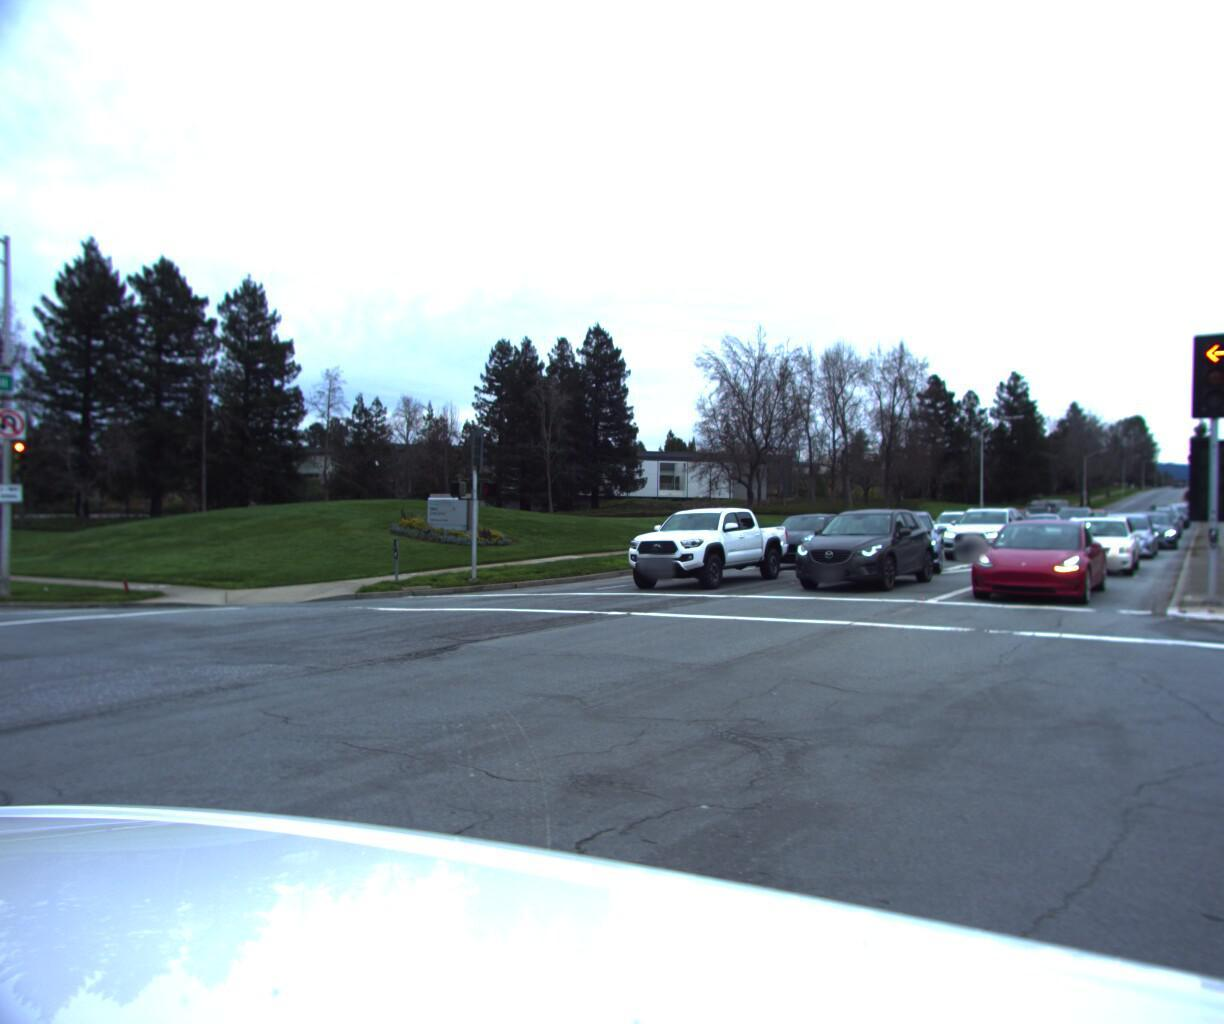car: (612, 501, 790, 595), (958, 516, 1112, 610), (783, 502, 939, 595), (743, 513, 863, 571), (1040, 511, 1143, 576), (936, 503, 1035, 562), (858, 508, 946, 574), (1082, 509, 1163, 558), (922, 508, 987, 549), (1122, 513, 1183, 550), (1008, 511, 1073, 547), (1012, 494, 1068, 533)
